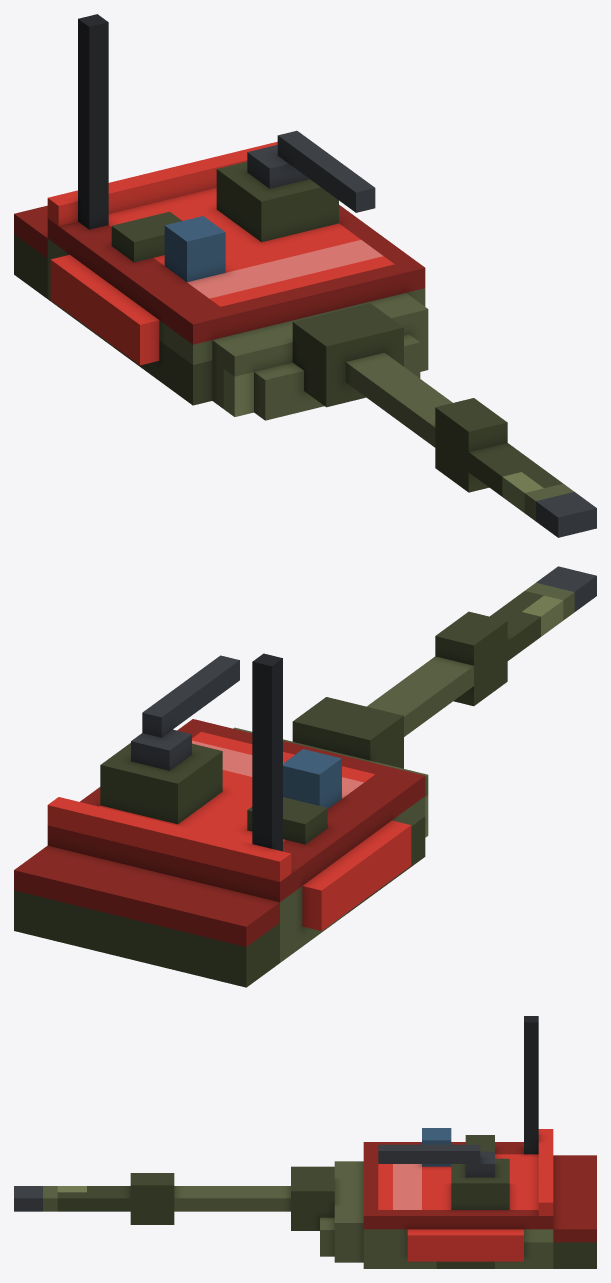
Rendered from cm_tank_g_0.glb.
3 views of the same model, one above another, from view 1: azimuth 30°, elevation 25°; view 2: azimuth 150°, elevation 25°; view 3: azimuth 270°, elevation 25° (orthographic). The views are drawn at different scales.
Parts seen in each view (by area): view 1: cm_tank_g_0_body; view 2: cm_tank_g_0_body; view 3: cm_tank_g_0_body.
Part boxes in pixels (left/top/right/bottom): cm_tank_g_0_body: left=14, top=14, right=596, bottom=537; cm_tank_g_0_body: left=14, top=566, right=596, bottom=987; cm_tank_g_0_body: left=14, top=1016, right=596, bottom=1268.
Bounding box in the file's own units: 0.875 × 0.875 × 2.5.
Materials: 1 (1 with a texture image).
